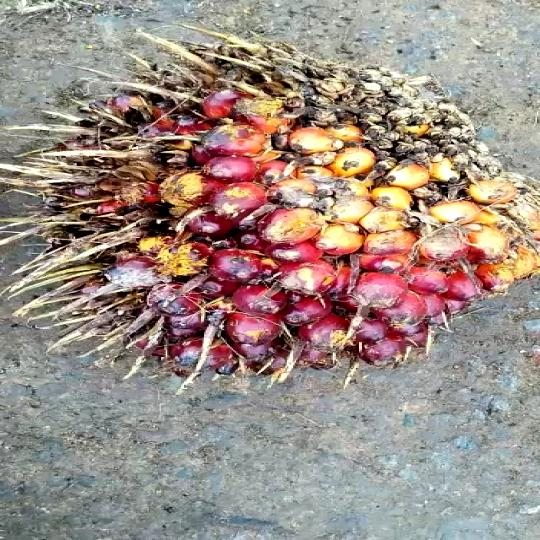masak: (18, 38, 540, 385)
